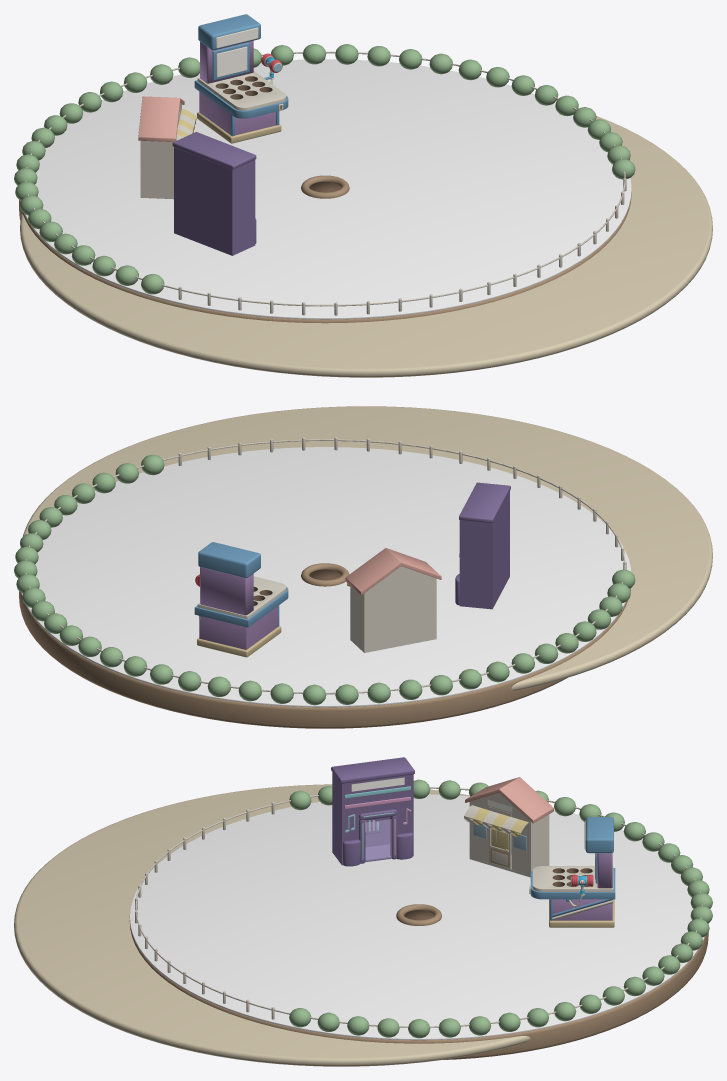
File: plaza.glb
3 renders of one model, top to bottom at view 1: azimuth 30°, elevation 25°; view 2: azimuth 150°, elevation 25°; view 3: azimuth 270°, elevation 25°, orthographic. The views are drawn at different scales.
Parts seen in each view (by area): view 1: Hub checker floor batch, Home clay batch, Screen_lightMode; view 2: Hub checker floor batch, Home clay batch; view 3: Hub checker floor batch, Home clay batch, Energy_rhythm, Door_shop.
Part boxes in pixels (box(x1,y1,x2,y2)): Hub checker floor batch: box(20, 59, 631, 319); Home clay batch: box(14, 14, 712, 377); Screen_lightMode: box(217, 47, 247, 77); Hub checker floor batch: box(21, 447, 631, 707); Home clay batch: box(14, 406, 712, 728); Hub checker floor batch: box(129, 794, 704, 1040); Home clay batch: box(14, 757, 712, 1066); Energy_rhythm: box(366, 819, 391, 860); Door_shop: box(489, 828, 511, 869).
Size of what is drawn, in the model's own units: 36.2 by 6.82 by 38.65.
Materials: 5 (1 with a texture image).
